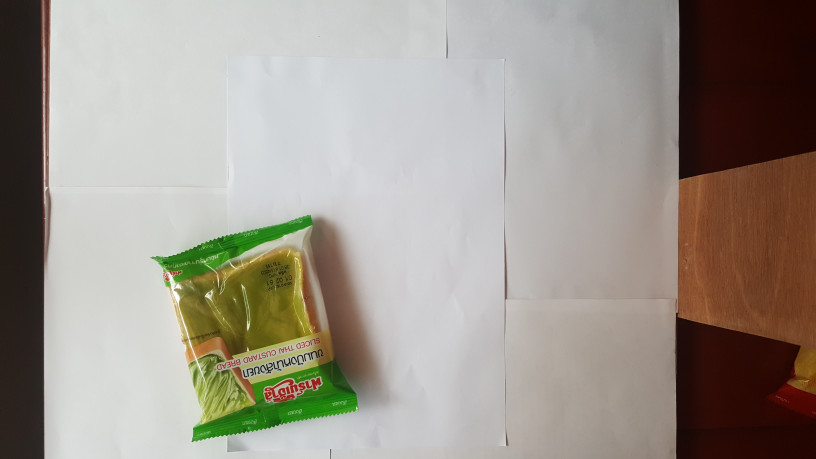farmhouse-bread-pandan: (152, 214, 367, 447)
